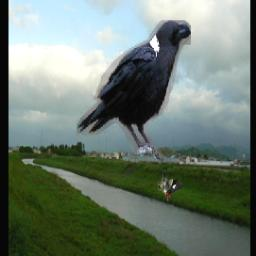Crow: (77, 20, 192, 163)
Woodpecker: (158, 171, 182, 202)
